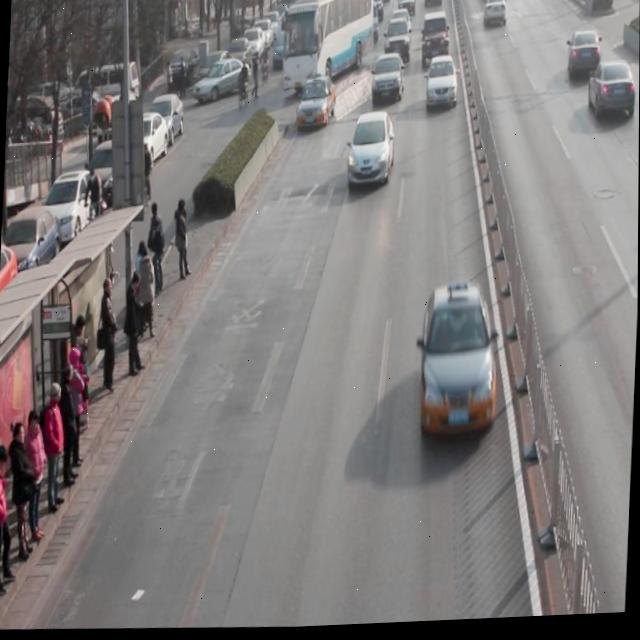car: (418, 282, 500, 441), (347, 113, 397, 194), (588, 62, 639, 128), (297, 79, 337, 133), (424, 58, 459, 116), (419, 14, 452, 74), (371, 54, 405, 110), (567, 34, 602, 88), (382, 18, 412, 67), (483, 0, 507, 34)
van: (279, 0, 374, 93)
